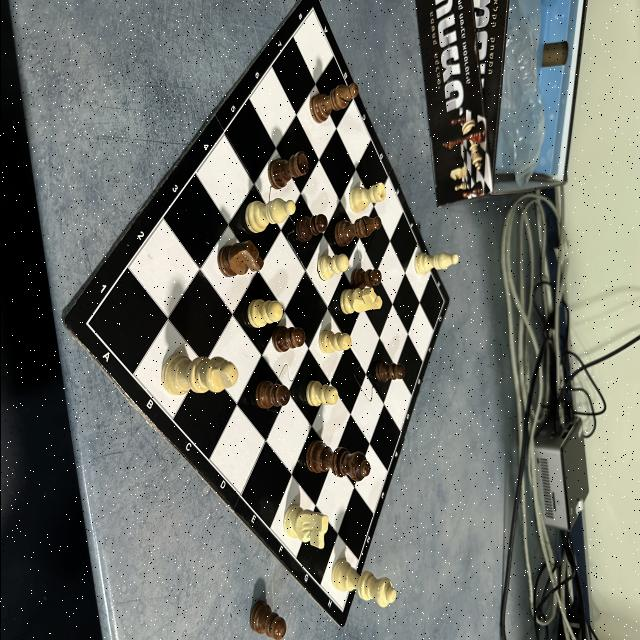Black-Bishop: (309, 82, 358, 124), (333, 216, 381, 248)
Black-Knight: (216, 240, 263, 278)
Black-Pawn: (248, 600, 286, 640), (254, 380, 289, 410), (270, 325, 304, 353), (294, 214, 327, 242), (374, 360, 405, 384), (349, 267, 382, 288)
Black-Queen: (304, 439, 370, 482)
Black-Rook: (266, 150, 308, 191)
White-Bishop: (243, 197, 296, 234), (413, 251, 458, 276)
White-King: (160, 354, 238, 396)
White-Knight: (282, 504, 328, 550), (339, 288, 382, 316)
White-Pawn: (246, 298, 282, 328), (304, 380, 338, 408), (316, 254, 348, 282), (318, 330, 351, 354)
White-Queen: (330, 558, 396, 608)
White-Rook: (348, 182, 386, 214)
